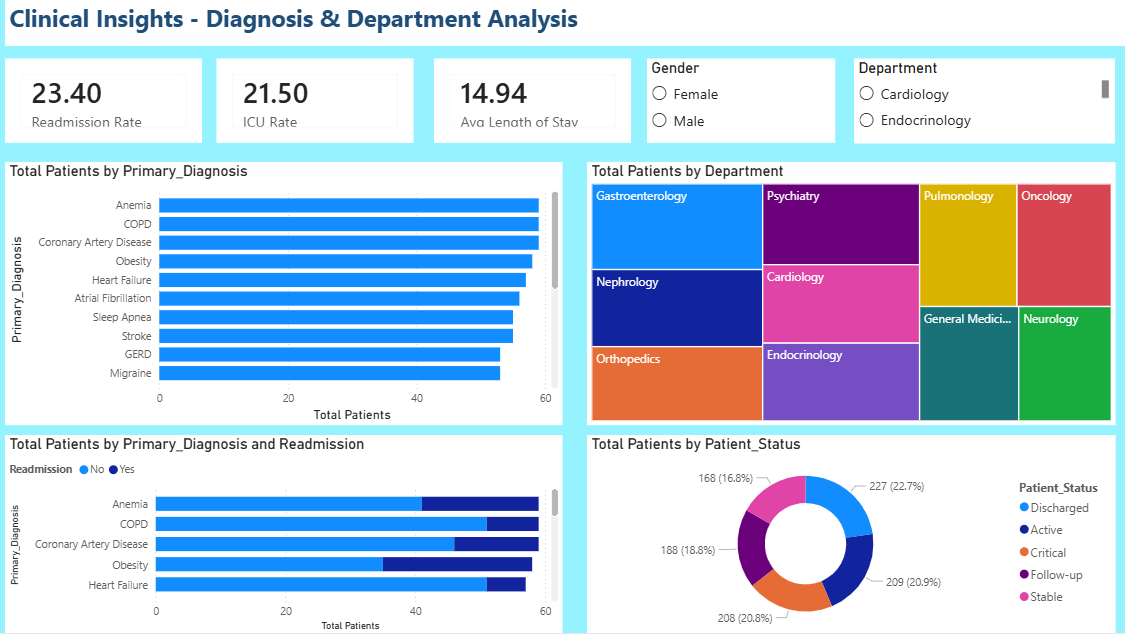

Layout of this report page (visuals, bound fields, positions):
{"tool":"powerbi","page":{"name":"Clinical Insights","canvas":[1280,720],"ordinal":1},"visuals":[{"type":"textbox","box":[10,0,1270,55],"z":0},{"type":"cardVisual","fields":{"Data":["Patient Data.Readmission Rate"]},"box":[10,68.8,222.5,95],"z":1000},{"type":"cardVisual","fields":{"Data":["Patient Data.ICU Rate"]},"box":[248.8,68.8,222.5,95],"z":2000},{"type":"cardVisual","fields":{"Data":["Patient Data.Avg Length of Stay"]},"box":[495,68.8,222.5,95],"z":3000},{"type":"clusteredBarChart","fields":{"Category":["Patient Data.Primary_Diagnosis"],"Y":["Patient Data.Total Patients"]},"box":[10,186.2,630,297.5],"z":4000},{"type":"barChart","fields":{"Category":["Patient Data.Primary_Diagnosis"],"Y":["Patient Data.Total Patients"],"Series":["Patient Data.Readmission"]},"box":[10,494.3,630,225.7],"z":5000},{"type":"donutChart","fields":{"Category":["Patient Data.Patient_Status"],"Y":["Patient Data.Total Patients"]},"box":[667.1,494.3,597.1,225.7],"z":6000},{"type":"listSlicer","fields":{"Values":["Patient Data.Department"]},"box":[970,68.8,293.8,95],"z":7000},{"type":"listSlicer","fields":{"Values":["Patient Data.Gender"]},"box":[735,68.8,212.5,95],"z":8000},{"type":"treemap","fields":{"Group":["Patient Data.Department"],"Values":["Patient Data.Total Patients"]},"box":[667.1,185.7,597.1,297.1],"z":9000}]}

Visuals, with their boxes in screenshot pixels (x1, y1, x2, y2), scaled from the page's 1280x720 canvas onto the 1125x634 screenshot:
textbox: rect(9, 0, 1124, 48)
cardVisual - Patient Data.Readmission Rate: rect(9, 61, 204, 144)
cardVisual - Patient Data.ICU Rate: rect(219, 61, 414, 144)
cardVisual - Patient Data.Avg Length of Stay: rect(435, 61, 631, 144)
clusteredBarChart - Patient Data.Primary_Diagnosis x Patient Data.Total Patients: rect(9, 164, 562, 426)
barChart - Patient Data.Primary_Diagnosis x Patient Data.Total Patients: rect(9, 435, 562, 633)
donutChart - Patient Data.Patient_Status x Patient Data.Total Patients: rect(586, 435, 1111, 633)
listSlicer - Patient Data.Department: rect(853, 61, 1111, 144)
listSlicer - Patient Data.Gender: rect(646, 61, 833, 144)
treemap - Patient Data.Department x Patient Data.Total Patients: rect(586, 164, 1111, 425)
